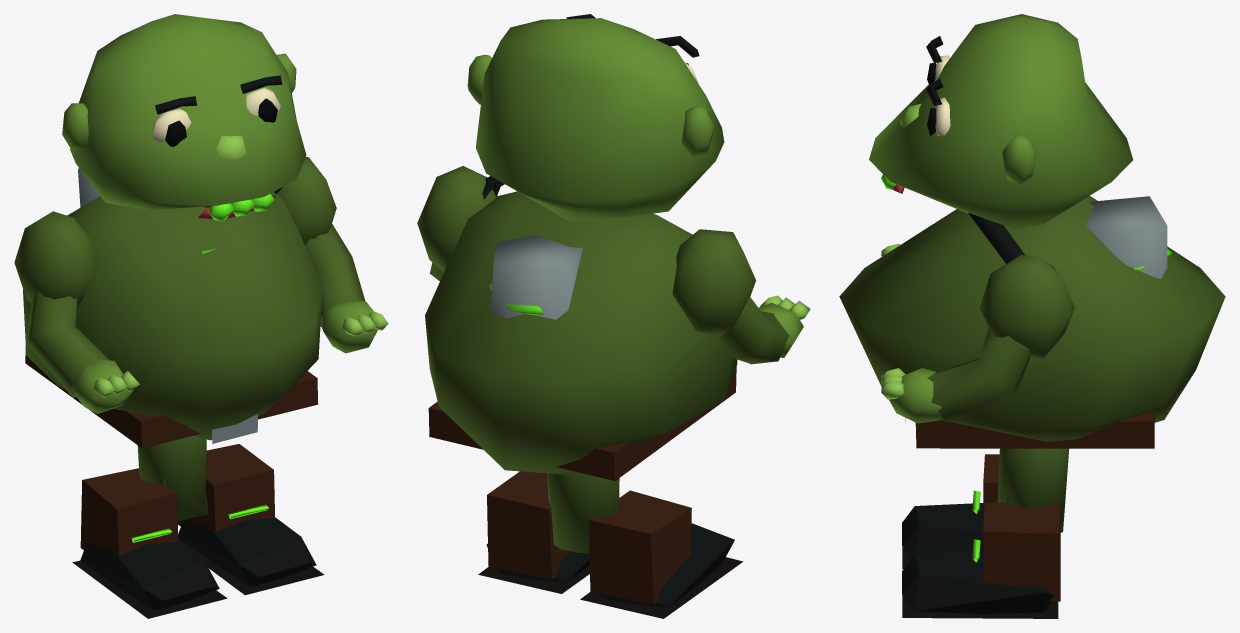
The model's file is spitter-lod.glb.
3 views of the same model, side by side, from view 1: azimuth 30°, elevation 25°; view 2: azimuth 150°, elevation 25°; view 3: azimuth 270°, elevation 25° (orthographic). The views are drawn at different scales.
Visible parts, largest first — view 1: Body, Head, Arms, LegL, LegR; view 2: Body, Head, Arms, LegL, LegR; view 3: Body, Head, LegR, Arms, LegL.
Part boxes in pixels (left/top/right/bottom): Body: left=23, top=168, right=322, bottom=448; Head: left=62, top=14, right=306, bottom=221; Arms: left=14, top=157, right=388, bottom=413; LegL: left=72, top=437, right=227, bottom=618; LegR: left=137, top=436, right=324, bottom=595; Body: left=425, top=176, right=737, bottom=480; Head: left=467, top=14, right=724, bottom=221; Arms: left=417, top=166, right=810, bottom=364; LegL: left=547, top=471, right=743, bottom=618; LegR: left=478, top=471, right=616, bottom=593; Body: left=839, top=196, right=1225, bottom=448; Head: left=869, top=14, right=1133, bottom=229; LegR: left=902, top=448, right=1069, bottom=618; Arms: left=881, top=243, right=1074, bottom=423; LegL: left=902, top=448, right=1062, bottom=569.
Size of the model in its own units: 0.7267 by 1.16 by 0.7394.
1 material, 1 textured.
